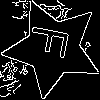F: (28, 23, 79, 62)
